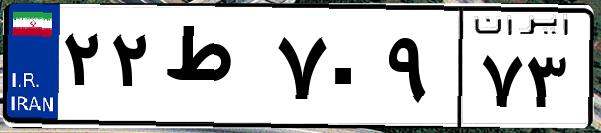0: (330, 28, 385, 110)
2: (57, 26, 110, 100), (110, 28, 158, 98)
3: (525, 38, 570, 115)
7: (270, 28, 330, 110), (475, 38, 525, 113)
9: (385, 28, 445, 110)
ط: (158, 20, 270, 120)
